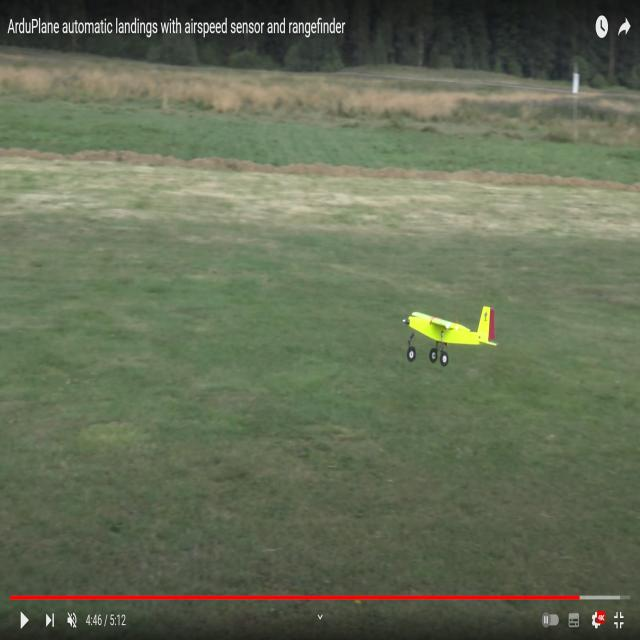iha: (436, 306, 466, 364)
